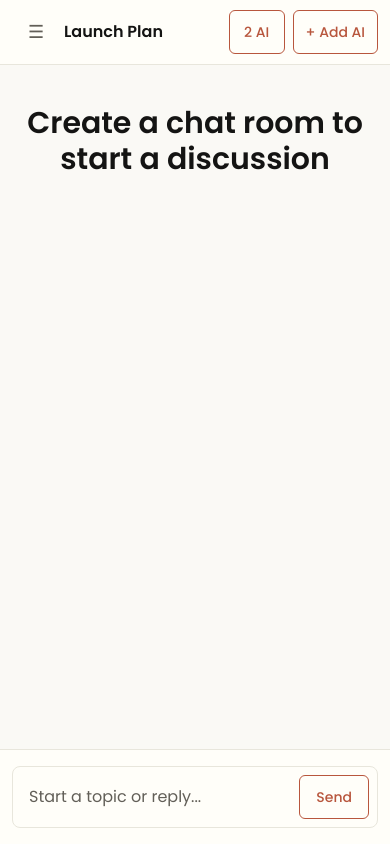
ChatShell › shows a compact AI count in the mobile header and expands the mobile AI list
Click the button with aria-label "Show added AI instances".
click(256, 32)  # box [228, 10, 284, 54]
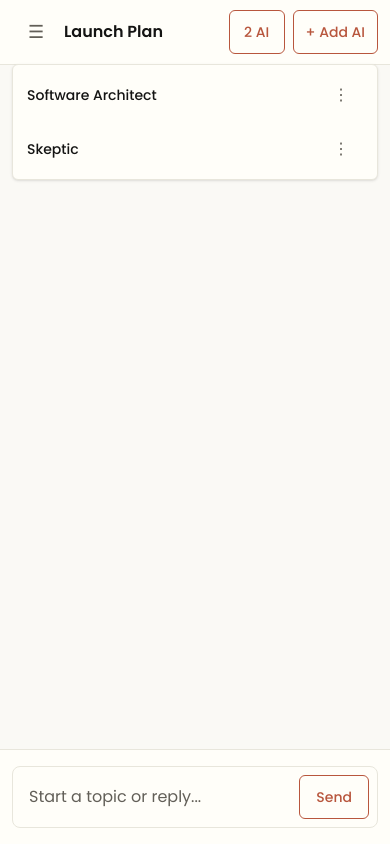
Expected: the button "Software Architect" is shown, [27, 85, 311, 105]
Expected: the button "Skeptic" is shown, [27, 139, 311, 159]
Click the button named "Software Architect options".
click(341, 95)  # box [319, 73, 363, 117]
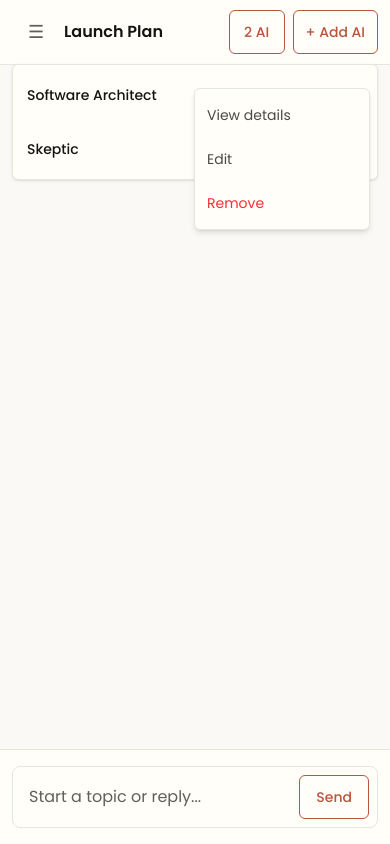
Expected: the button "View details" is shown, [195, 93, 369, 137]
Expected: the button "Edit" is shown, [195, 137, 369, 181]
Expected: the button "Remove" is shown, [195, 181, 369, 225]
